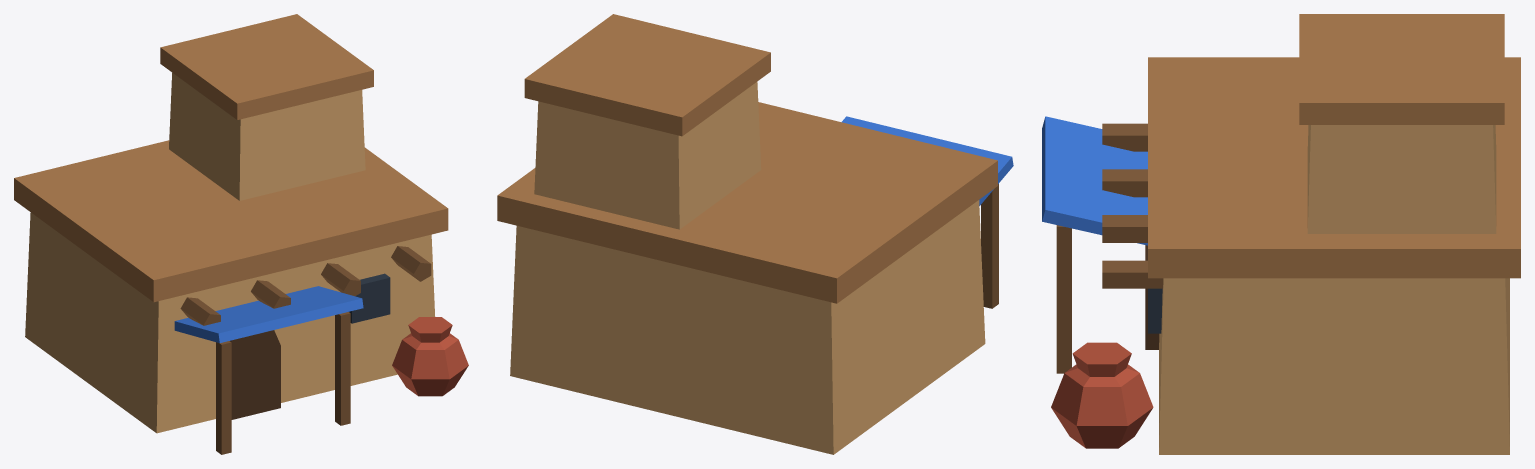
Rendered from house_0_b.glb.
The picture shows the model from 3 angles, left to right: view 1: azimuth 30°, elevation 25°; view 2: azimuth 150°, elevation 25°; view 3: azimuth 270°, elevation 25°; orthographic projection. The views are drawn at different scales.
Parts seen in each view (by area): view 1: house_0_b; view 2: house_0_b; view 3: house_0_b.
Boxes of the visible parts, x1,y1,x2,y2 form: house_0_b: (14,14,468,454); house_0_b: (497,14,1013,454); house_0_b: (1042,14,1520,454).
Size of the model in its own units: 0.168 by 0.141 by 0.1773.
